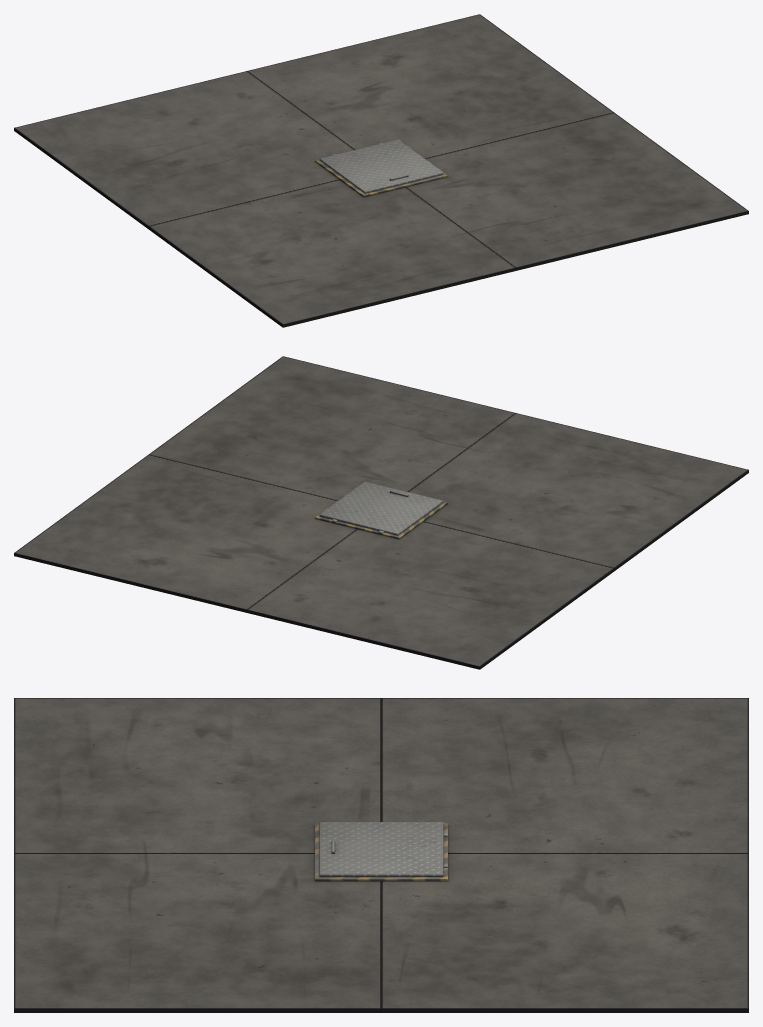
The model's file is floor_hatch.fbx.
3 views of the same model, one above another, from view 1: azimuth 30°, elevation 25°; view 2: azimuth 150°, elevation 25°; view 3: azimuth 270°, elevation 25° (orthographic). The views are drawn at different scales.
Parts seen in each view (by area): view 1: Body, Door; view 2: Body, Door; view 3: Body, Door.
Part boxes in pixels (bbox=[...]): Body: bbox=[14, 14, 748, 327]; Door: bbox=[319, 139, 443, 193]; Body: bbox=[14, 356, 748, 669]; Door: bbox=[319, 481, 443, 535]; Body: bbox=[14, 698, 748, 1012]; Door: bbox=[319, 822, 443, 876].
Size of the model in its own units: 32 by 6.58 by 32.
Materials: 1 (1 with a texture image).
